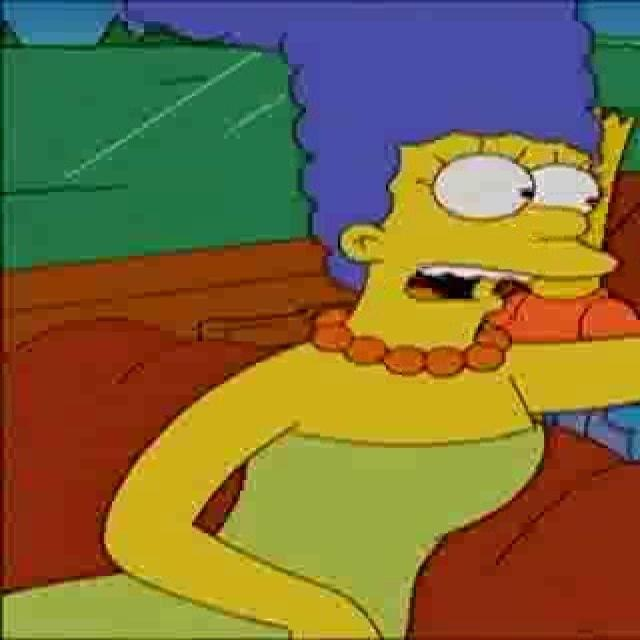Marge Simpson: (279, 0, 625, 379)
